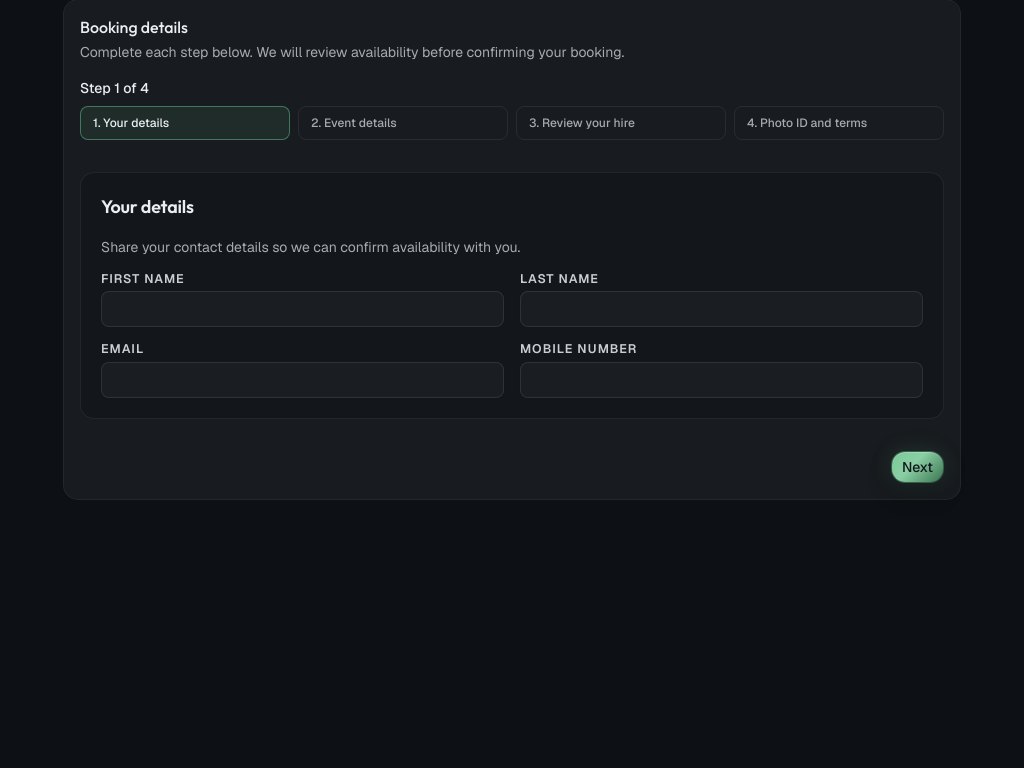
BookingForm › uses a step-by-step flow and moves from your details to event details
Expected: the text "Booking details" is shown, [80,17,188,37]
Expected: the text "Step 1 of 4" is shown, [80,79,149,97]
Type "Alex" into the field labelled "First name" at (302, 310), box [101,292,504,328]
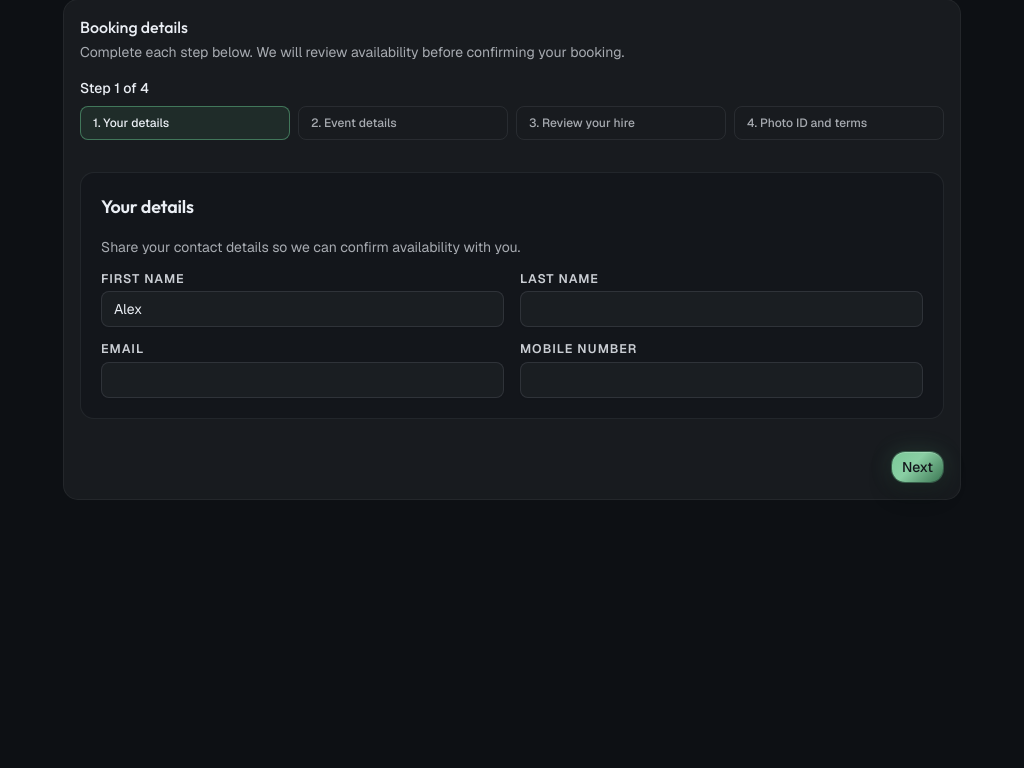
Type "Smith" into the field labelled "Last name" at (722, 310), box [520,292,923,328]
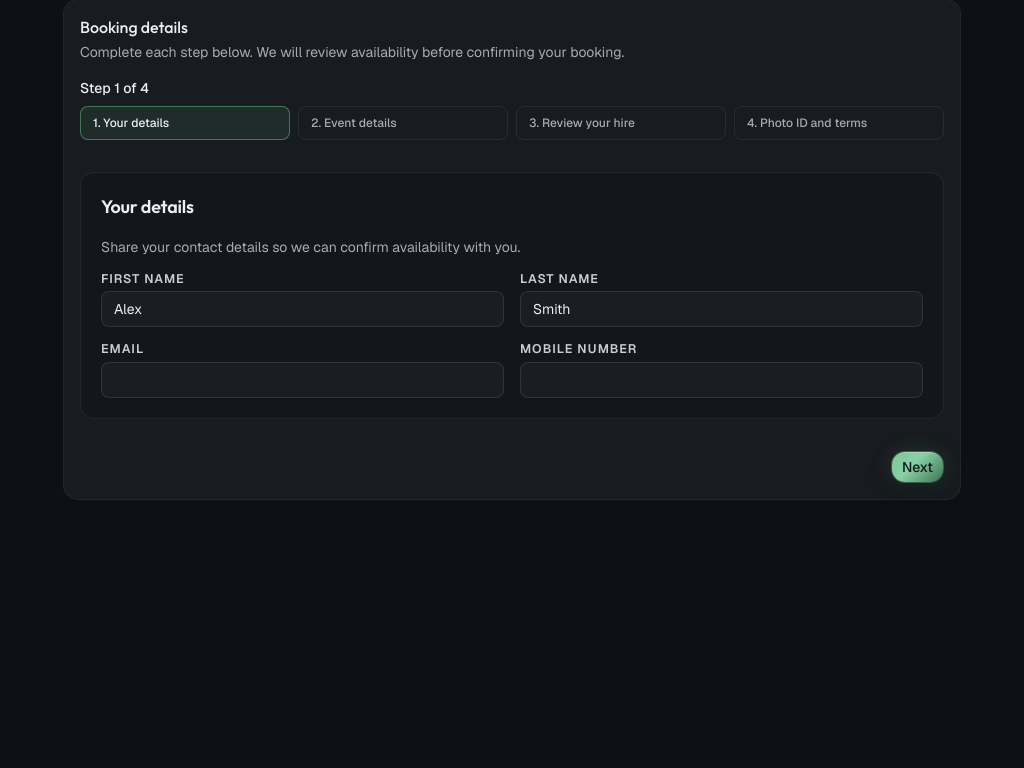
Type "alex@example.com" into the field labelled "Email" at (302, 380), box [101,362,504,398]
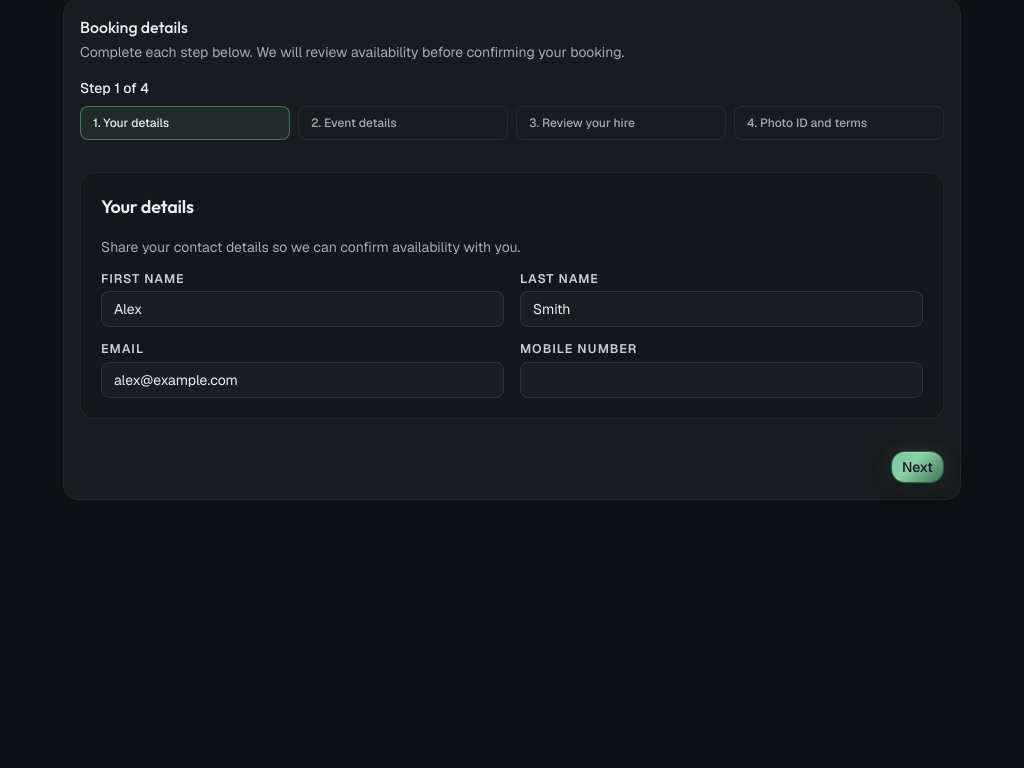
Type "0412345678" into the field labelled "Mobile number" at (722, 380), box [520,362,923,398]
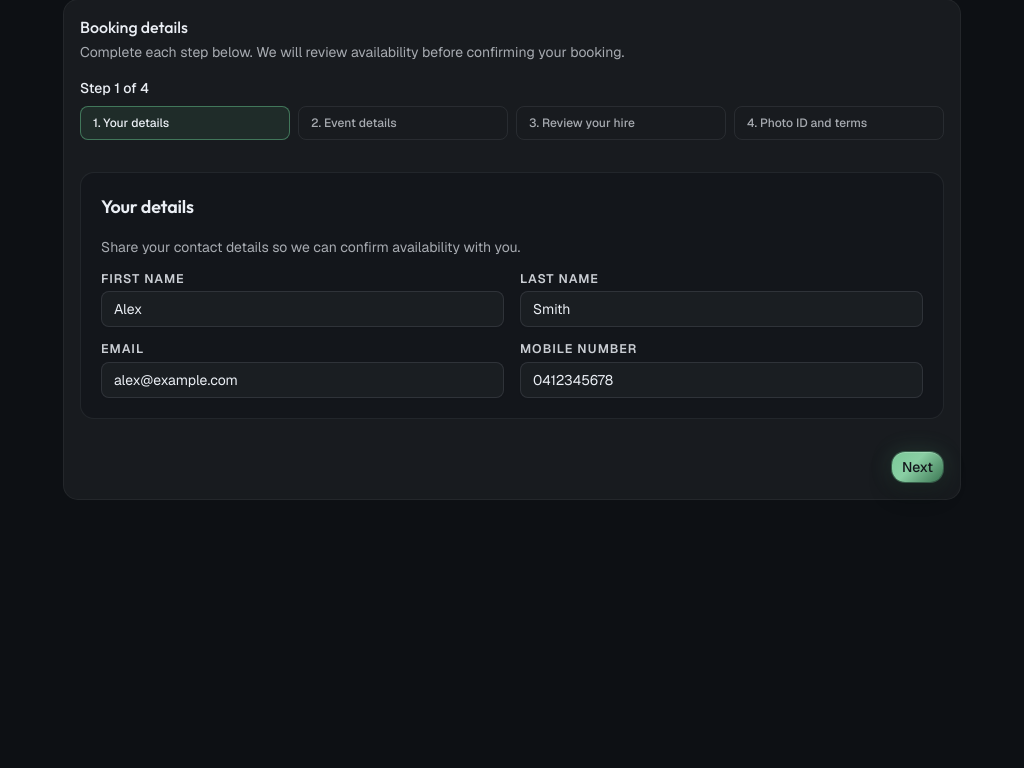
Click the button "Next" at (917, 467), box [891,451,944,483]
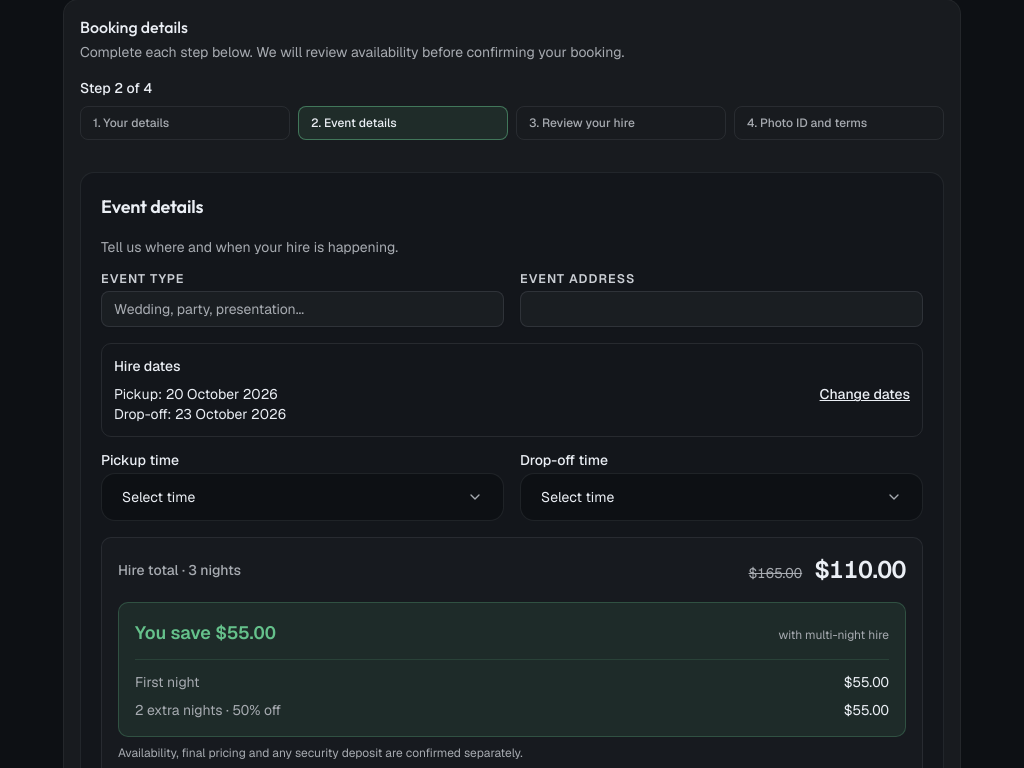
Result: the text "Step 2 of 4" is shown at [80,79,152,97]
Result: the heading "Event details" is shown at [101,195,203,218]
Result: the field labelled "Event address" is shown at [520,292,923,328]
